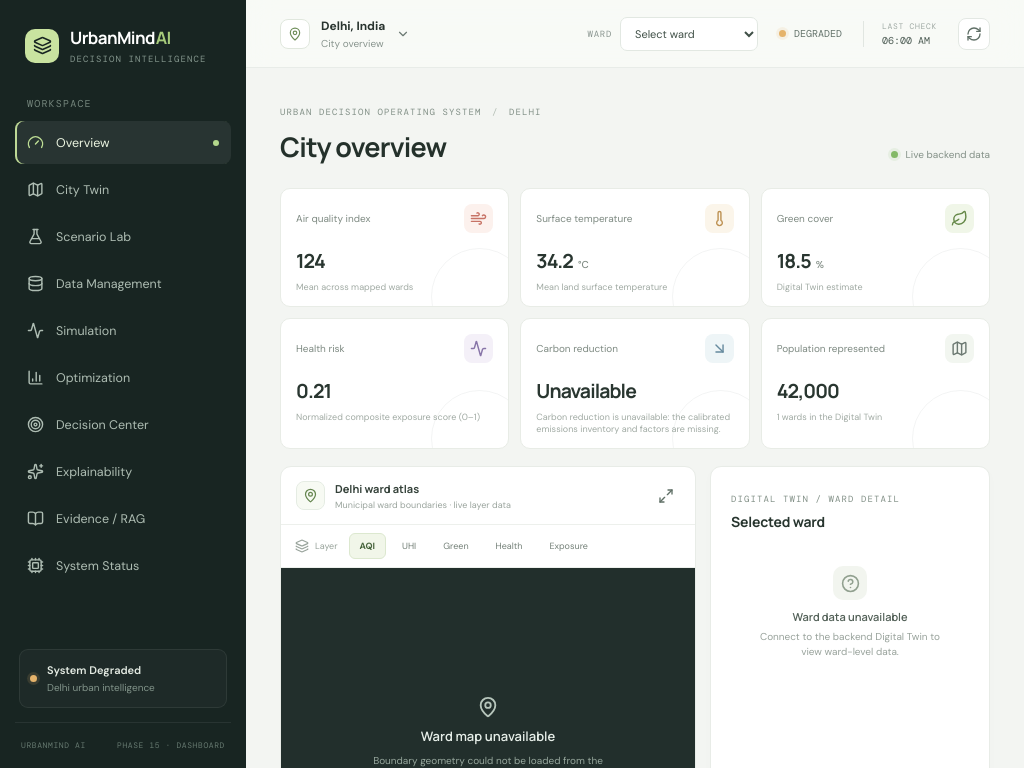
UrbanMind dashboard › renders numeric baseline-equal metrics and unavailable reasons from a saved simulation
Click the link "Simulation". click: click(72, 330)
box: x1=27 y1=322 x2=116 y2=339
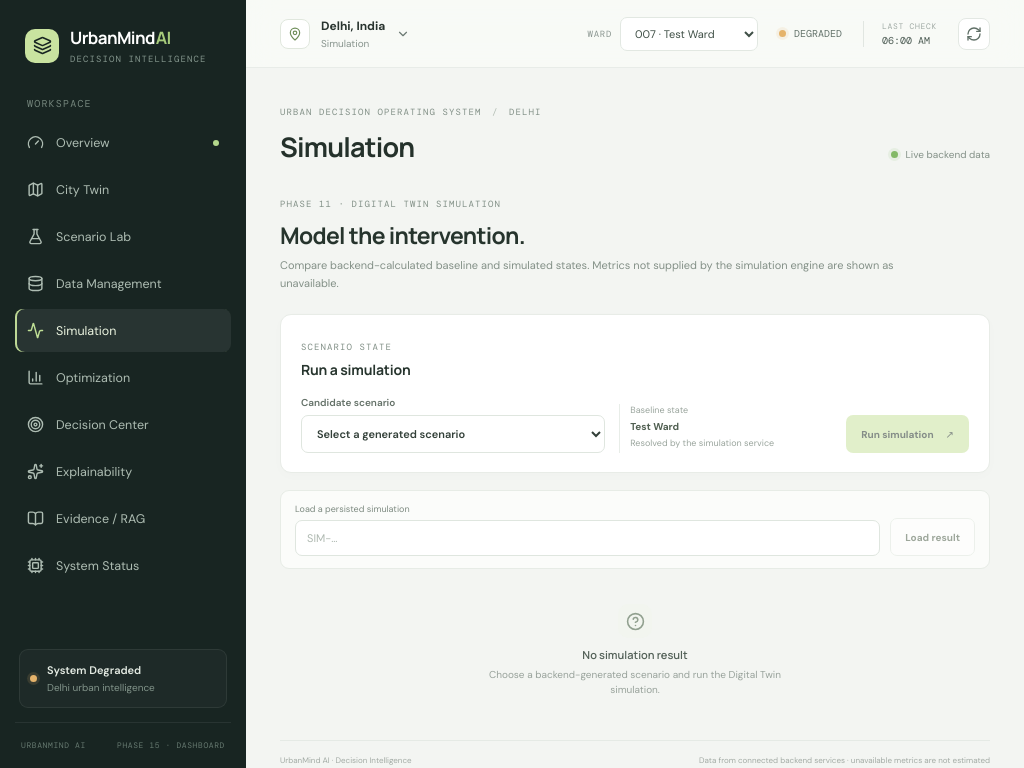
Type "SIM-158AF5F07F51" into the field labelled "Load a persisted simulation". click: (588, 538)
box: x1=295 y1=520 x2=880 y2=556
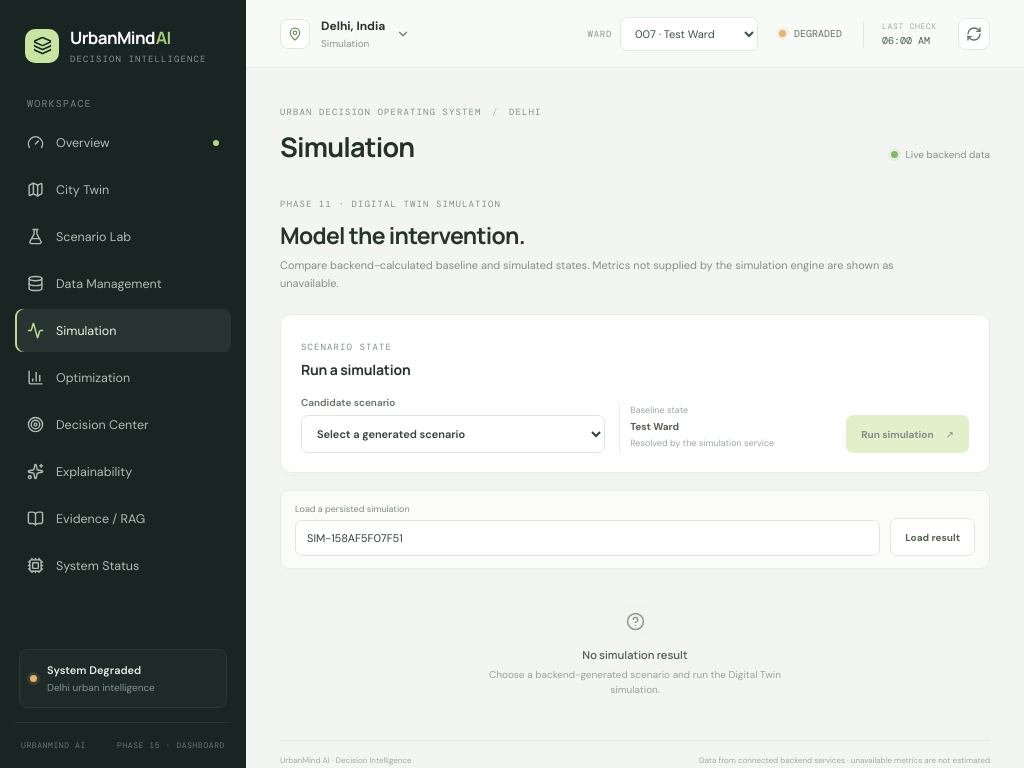
Click the button "Load result". click: click(933, 537)
box: x1=890 y1=518 x2=975 y2=556
(page scrolled)
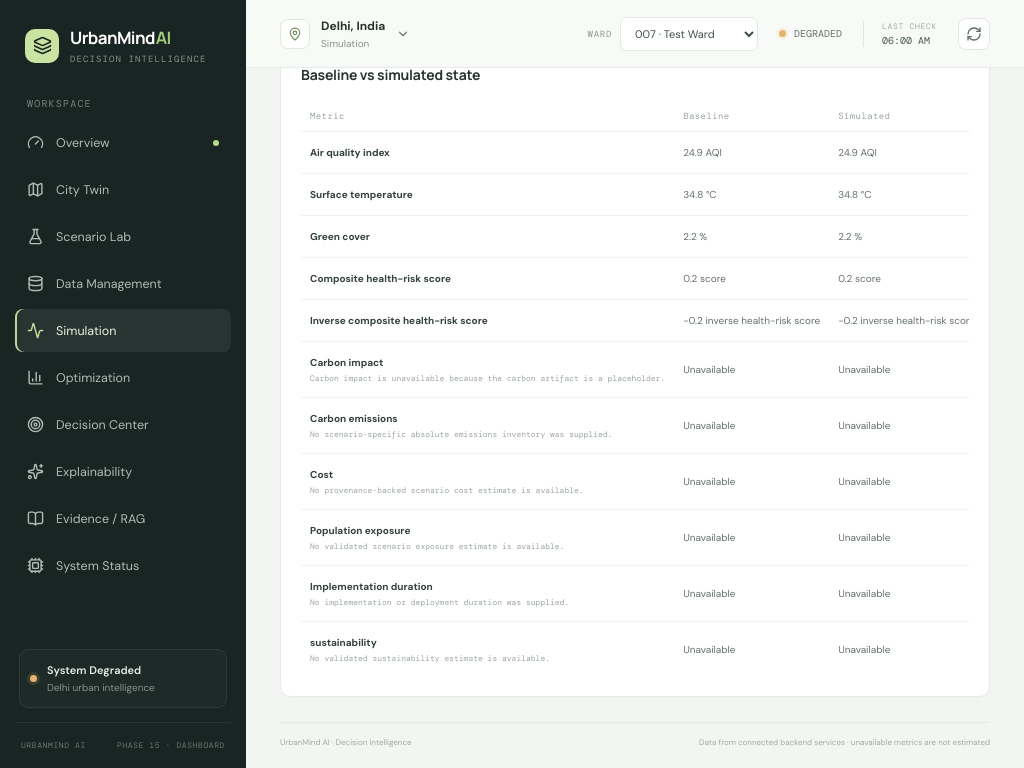
Expected: the text "24.9 AQI" is shown 2 times, x1=674 y1=132 x2=829 y2=174; x1=829 y1=132 x2=969 y2=174
Expected: the text "34.8 °C" is shown 2 times, x1=674 y1=174 x2=829 y2=216; x1=829 y1=174 x2=969 y2=216
Expected: the text "2.2 %" is shown 2 times, x1=674 y1=216 x2=829 y2=258; x1=829 y1=216 x2=969 y2=258
